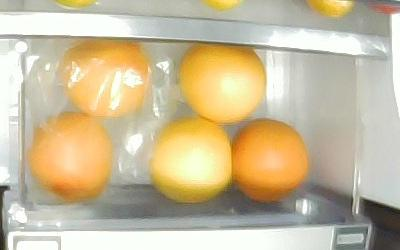grapefruit: (149, 115, 232, 204), (178, 43, 267, 124), (231, 119, 308, 203)
grapefruit_vinyl: (28, 112, 113, 202), (62, 42, 151, 118)
